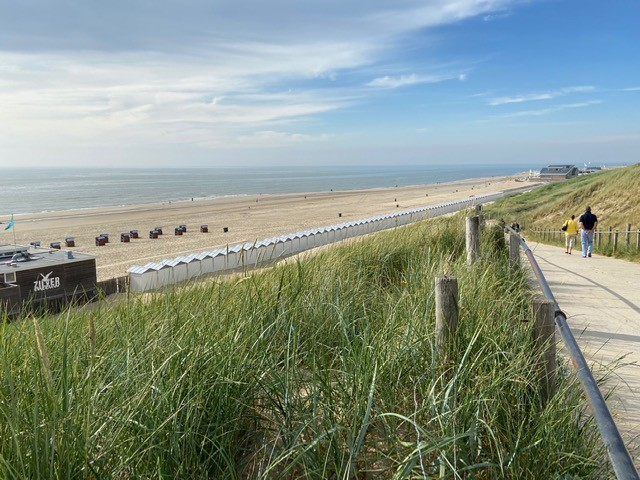zilvermeeuw: (1, 235, 109, 327)
